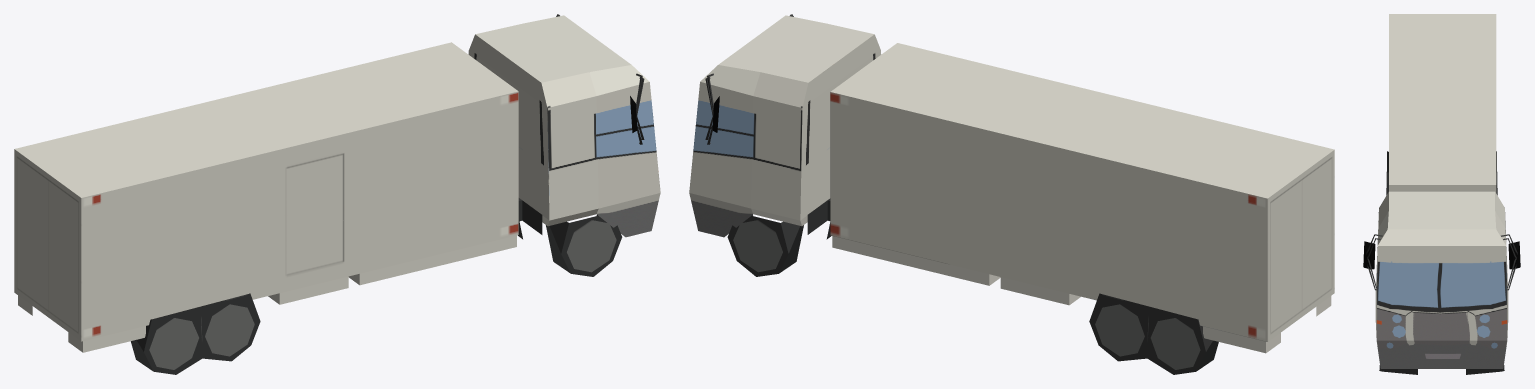
The model's file is CaminhaoLOD0.fbx.
3 views of the same model, side by side, from view 1: azimuth 30°, elevation 25°; view 2: azimuth 150°, elevation 25°; view 3: azimuth 270°, elevation 25° (orthographic). The views are drawn at different scales.
Parts seen in each view (by area): view 1: caminhaoLOD0; view 2: caminhaoLOD0; view 3: caminhaoLOD0.
Part boxes in pixels (left/top/right/bottom): caminhaoLOD0: left=14, top=14, right=660, bottom=374; caminhaoLOD0: left=689, top=14, right=1334, bottom=374; caminhaoLOD0: left=1363, top=14, right=1520, bottom=374.
Size of the model in its own units: 1160 by 390 by 345.
